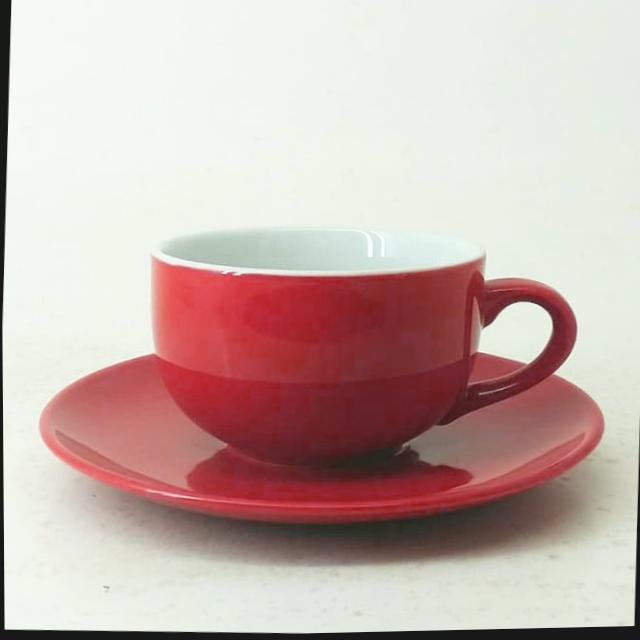cup: (28, 204, 613, 586)
